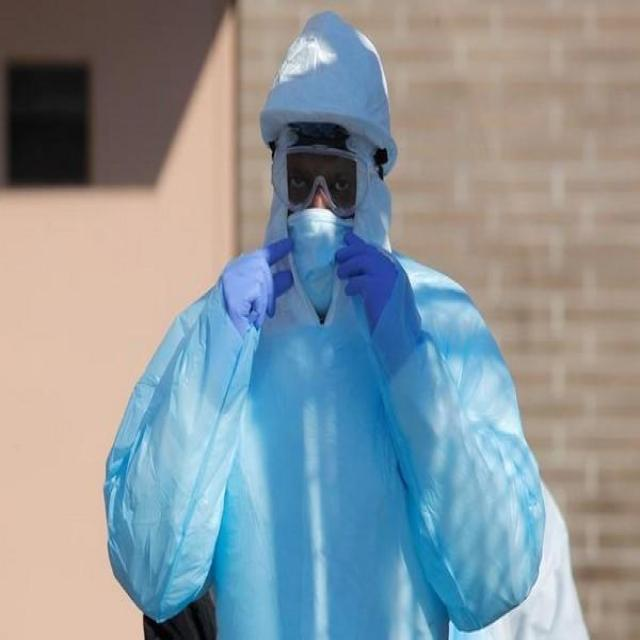Coverall: (81, 6, 577, 632)
Gloves: (222, 218, 304, 349), (330, 218, 405, 339)
Goggles: (255, 138, 372, 205)
Mask: (259, 195, 367, 254)
